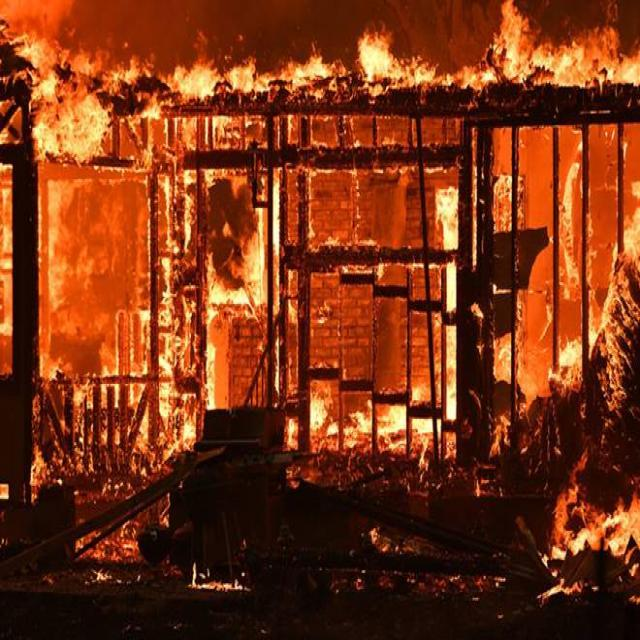Fire: (0, 29, 458, 592), (459, 0, 640, 604)
Smoke: (67, 0, 457, 23)
